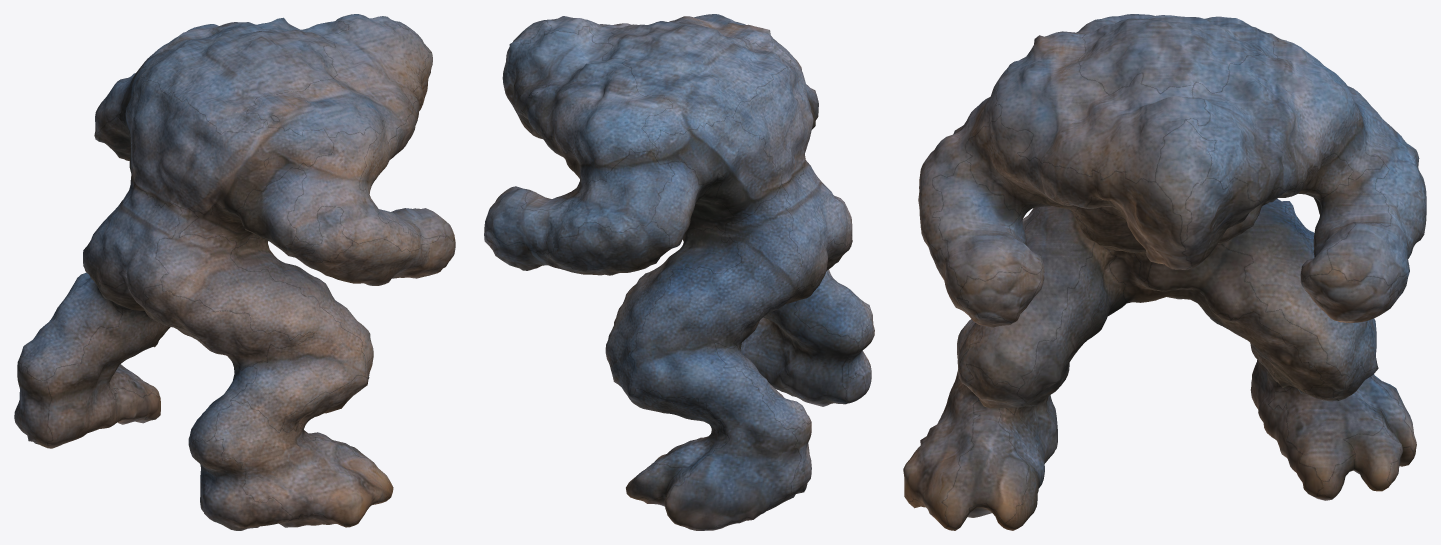
Rendered from gollum_attacking.glb.
3 views of the same model, side by side, from view 1: azimuth 30°, elevation 25°; view 2: azimuth 150°, elevation 25°; view 3: azimuth 270°, elevation 25° (orthographic). The views are drawn at different scales.
Visible parts, largest first — view 1: Mesh1; view 2: Mesh1; view 3: Mesh1.
Boxes of the visible parts, x1,y1,x2,y2 form: Mesh1: [14, 14, 455, 530]; Mesh1: [484, 14, 874, 530]; Mesh1: [903, 14, 1426, 530].
Bounding box in the file's own units: 1.06 × 1.2 × 1.12.
1 material, 1 textured.
